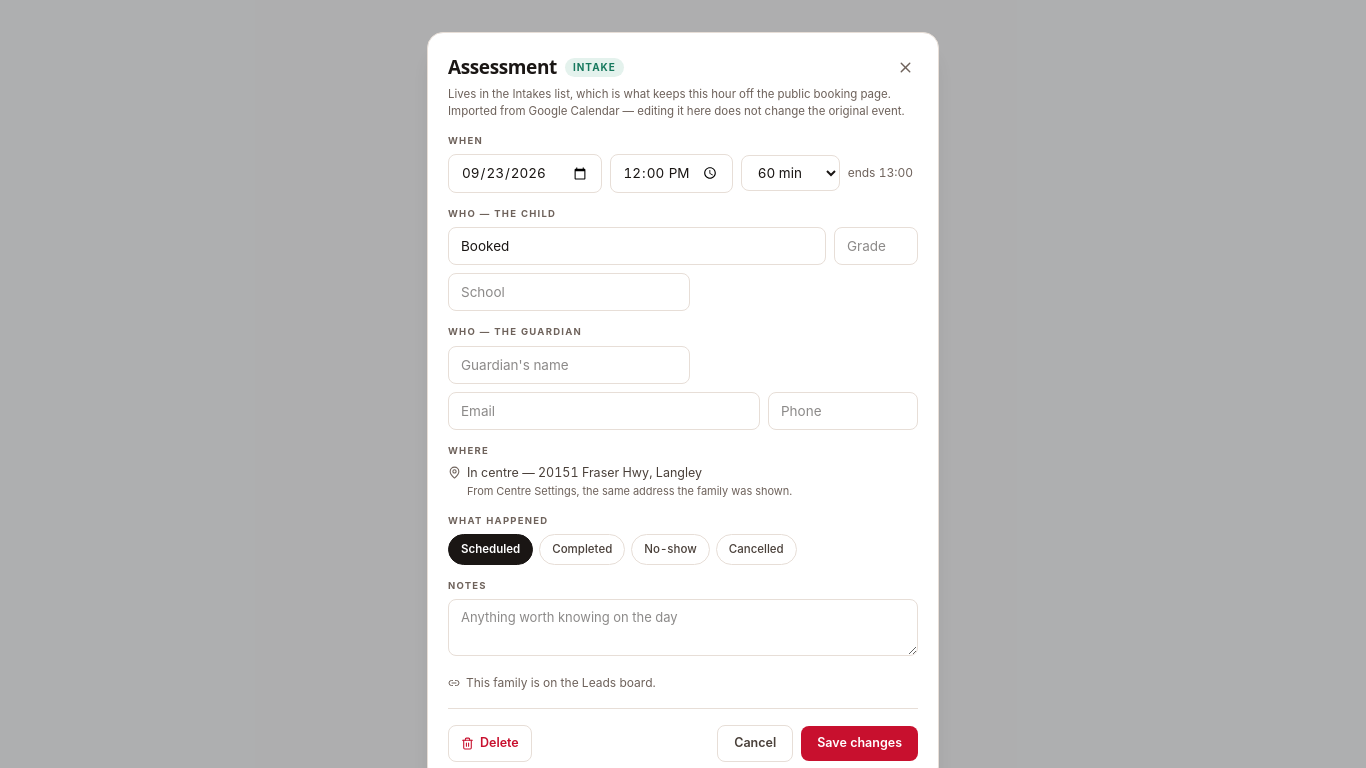
Test case: who, what, where, when › works out the end time so nobody has to
expect the text "ends 13:00" is shown: met, box 848,164 -> 913,182
Select "90 min" in the dropdown named "how long" at x=790, y=173, box 741,155 -> 840,191
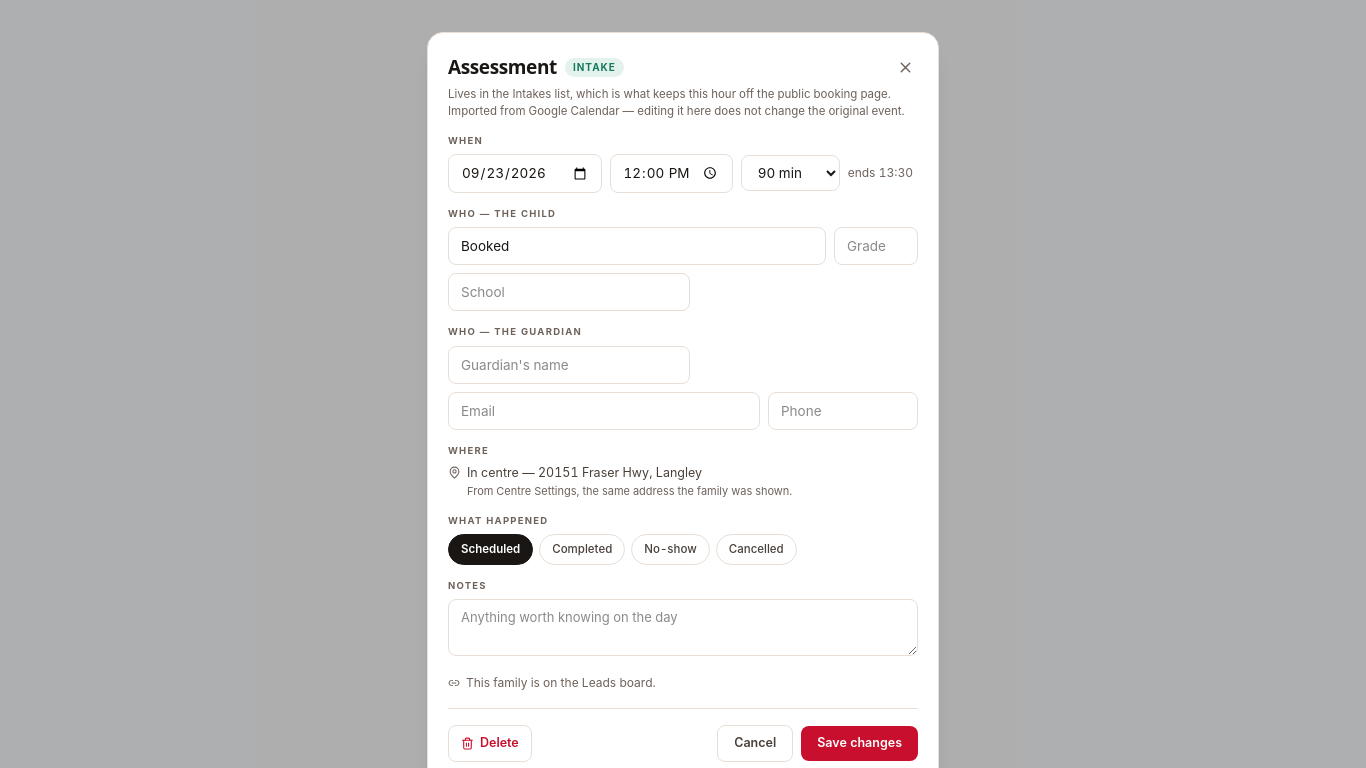
expect the text "ends 13:30" is shown: met, box 848,164 -> 913,182
